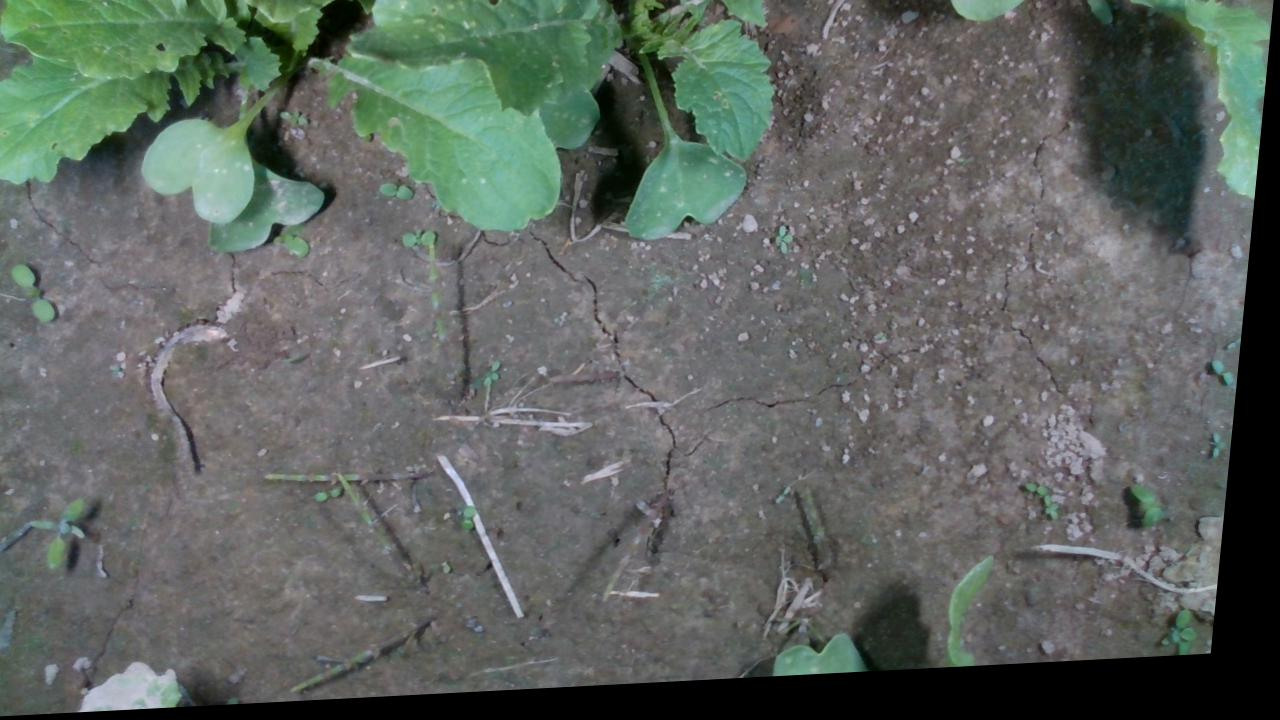weed: (33, 498, 99, 573), (8, 260, 66, 327), (1133, 492, 1175, 548), (1216, 370, 1245, 401), (380, 184, 419, 206), (279, 110, 314, 132), (778, 231, 800, 263), (1215, 443, 1236, 474), (486, 364, 510, 391), (471, 509, 487, 538)
